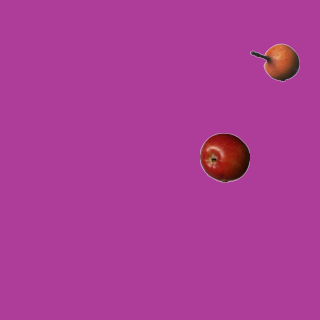Apple Braeburn: (199, 132, 249, 182)
Granadilla: (249, 37, 299, 87)
